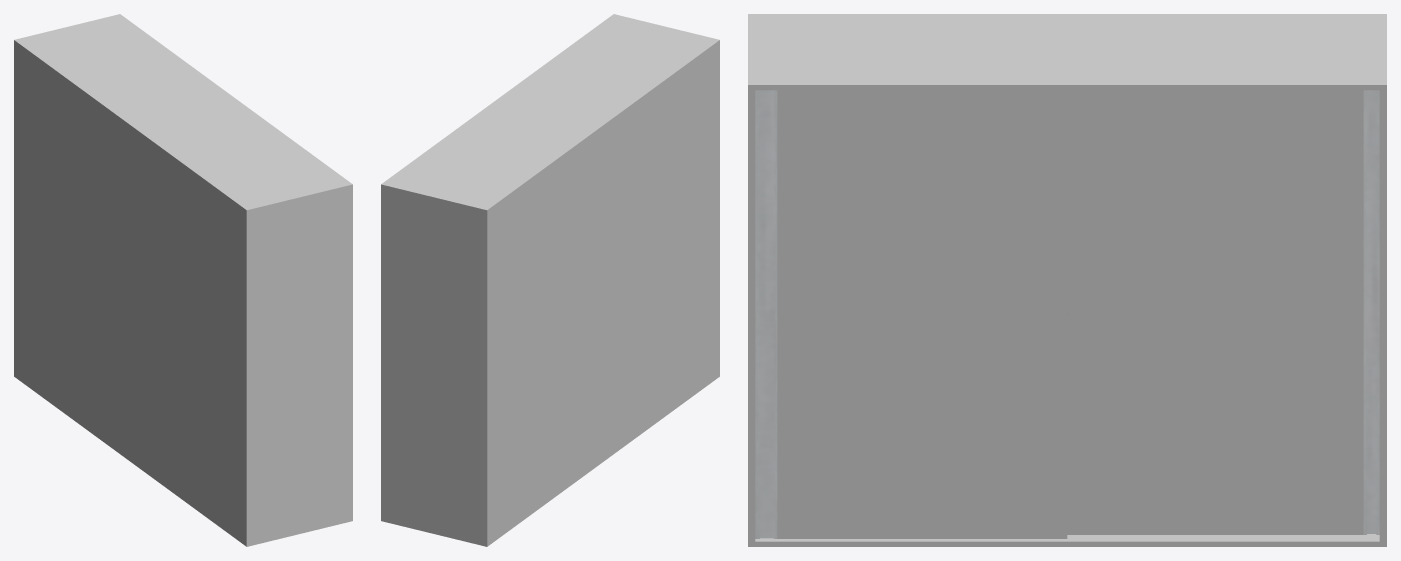
File: wardrobe.fbx
The picture shows the model from 3 angles, left to right: view 1: azimuth 30°, elevation 25°; view 2: azimuth 150°, elevation 25°; view 3: azimuth 270°, elevation 25°; orthographic projection. The views are drawn at different scales.
Visible parts, largest first — view 1: GuardaRoupa; view 2: GuardaRoupa; view 3: GuardaRoupa.
Part boxes in pixels (left/top/right/bottom): GuardaRoupa: left=14, top=14, right=352, bottom=546; GuardaRoupa: left=381, top=14, right=719, bottom=546; GuardaRoupa: left=748, top=14, right=1386, bottom=546.
Size of the model in its own units: 83.39 by 253 by 317.
Materials: 2 (1 with a texture image).
